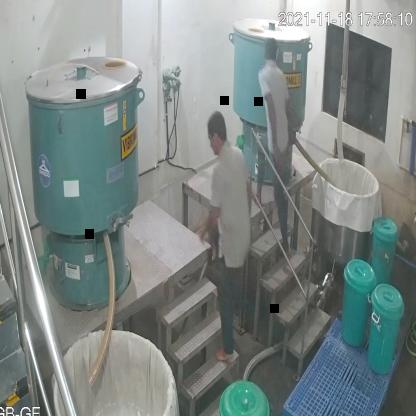no_shoes: (217, 340, 235, 366)
